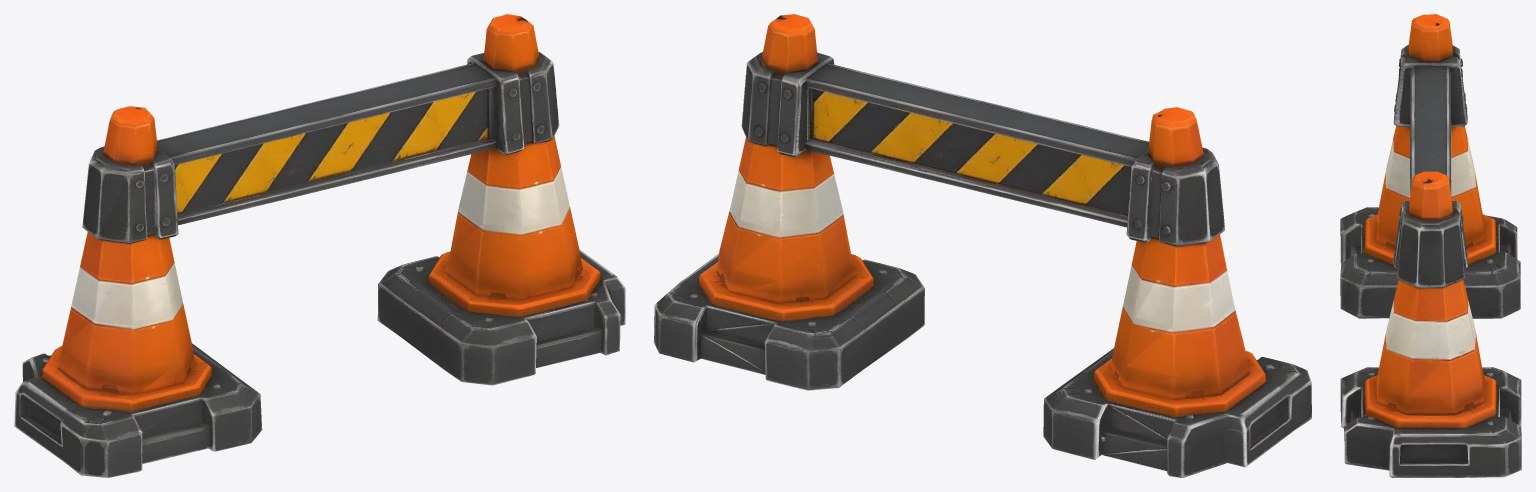
The model's file is cones.glb.
3 views of the same model, side by side, from view 1: azimuth 30°, elevation 25°; view 2: azimuth 150°, elevation 25°; view 3: azimuth 270°, elevation 25° (orthographic). The views are drawn at different scales.
Parts seen in each view (by area): view 1: mesh_node; view 2: mesh_node; view 3: mesh_node.
Boxes of the visible parts, x1,y1,x2,y2 form: mesh_node: (14,14,625,477); mesh_node: (654,14,1311,477); mesh_node: (1340,14,1521,477).
Bounding box in the file's own units: 1 × 0.5234 × 0.3272.
1 material, 1 textured.
